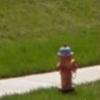a fire hydrant: (57, 45, 78, 92)
